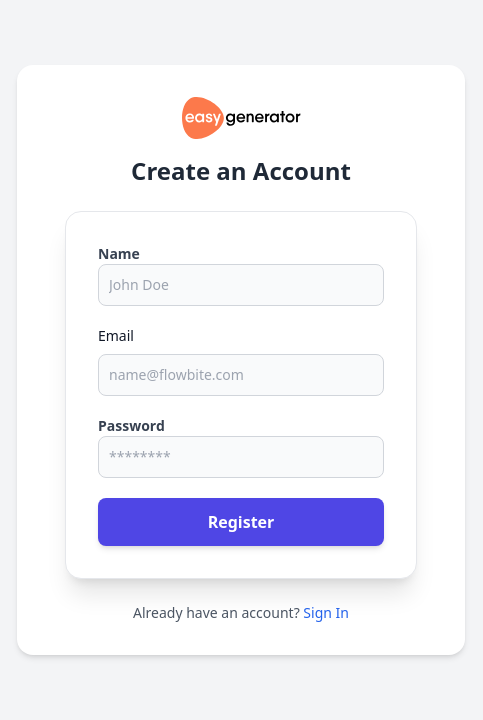
Register Page › should show errors for invalid input
Type "Jo" into the field with test id "name-input" at x=241, y=285, box [98,264,384,306]
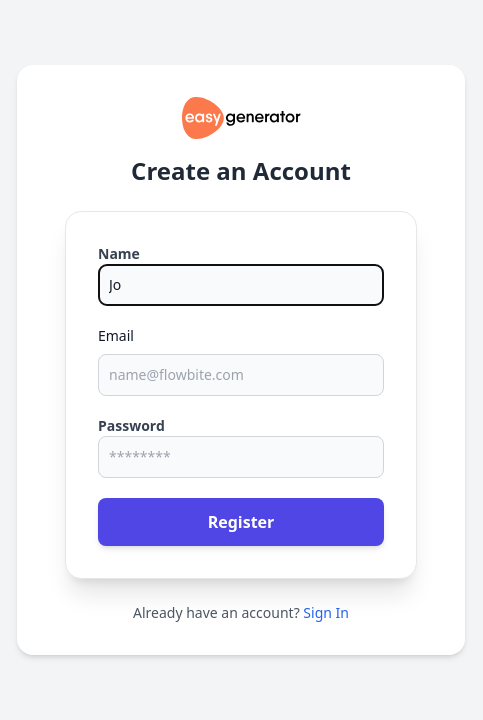
Type "invalid-email@email.com" into the field with test id "email-input" at x=241, y=375, box [98,354,384,396]
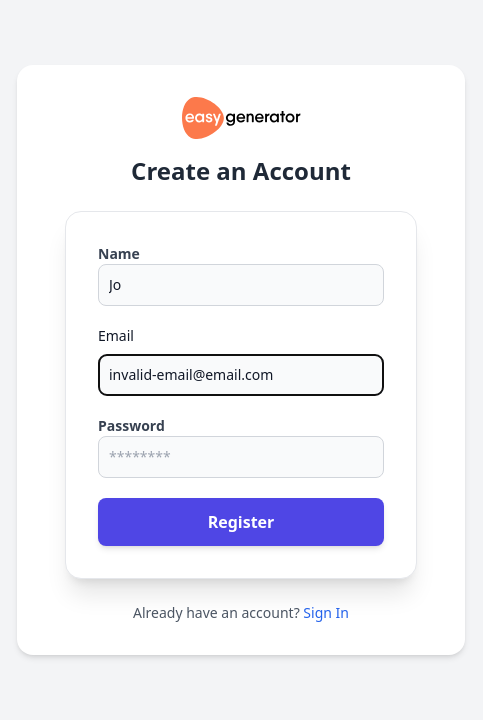
Type "123" into the password field with test id "password-input" at x=241, y=457, box [98,436,384,478]
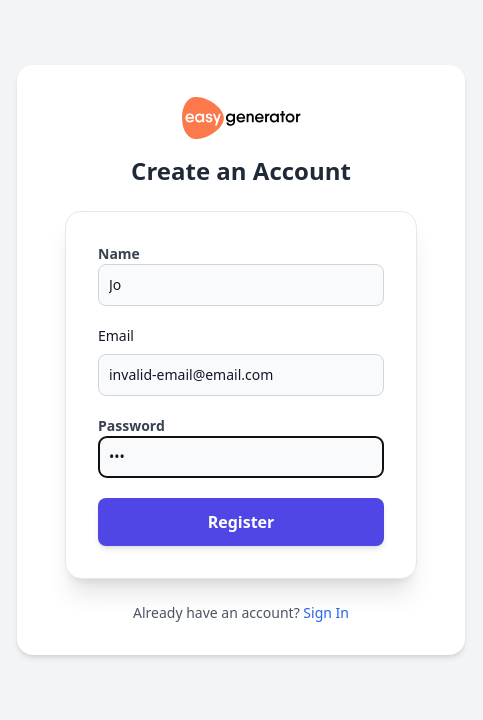
Click the button with test id "register-button" at x=241, y=522, box [98,498,384,546]
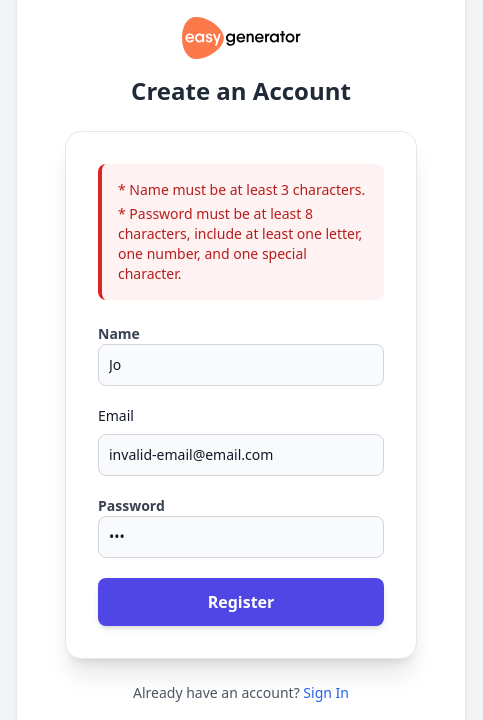
expect the list item with test id "error-list" shows "Name must be at least 3 characters.": met, box [129,180,365,199]
expect the list item with test id "error-list" shows "Password must be at least 8 characters, include at least one letter, one number, and one special character.": met, box [118,204,362,283]
